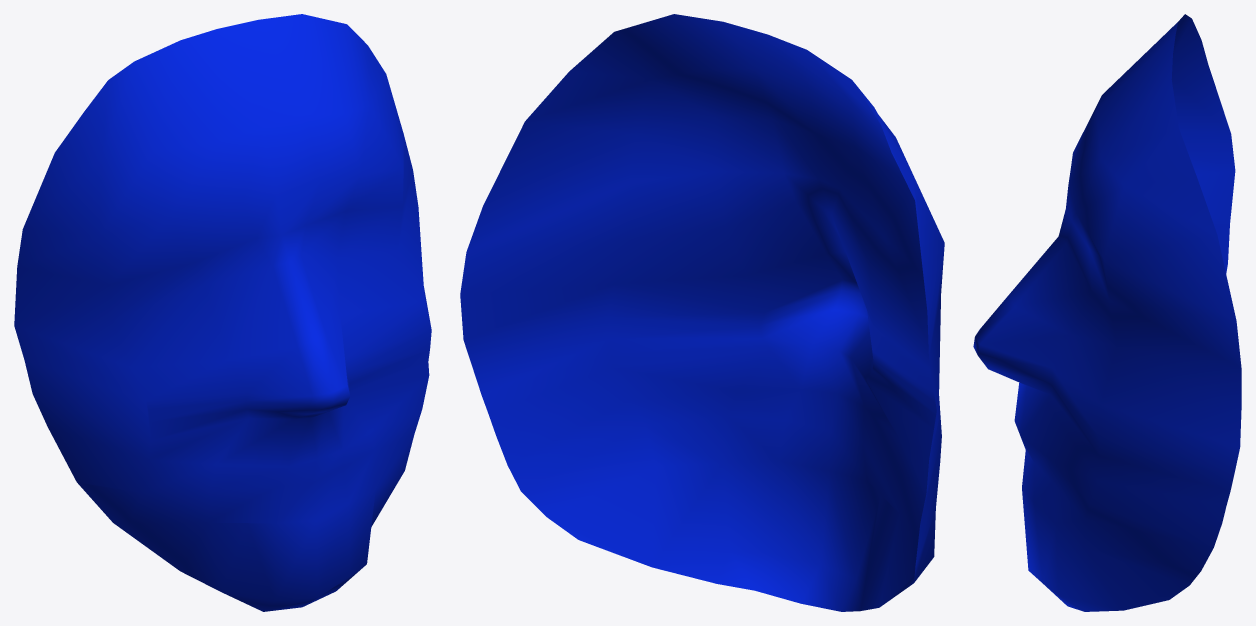
The model's file is FaceRetopo104.fbx.
The picture shows the model from 3 angles, left to right: view 1: azimuth 30°, elevation 25°; view 2: azimuth 150°, elevation 25°; view 3: azimuth 270°, elevation 25°; orthographic projection. The views are drawn at different scales.
Parts seen in each view (by area): view 1: Plane; view 2: Plane; view 3: Plane.
Boxes of the visible parts, <box> form: Plane: <box>14,14,431,611</box>; Plane: <box>460,14,944,611</box>; Plane: <box>973,14,1241,611</box>.
Bounding box in the file's own units: 14513 × 18397 × 8212.
